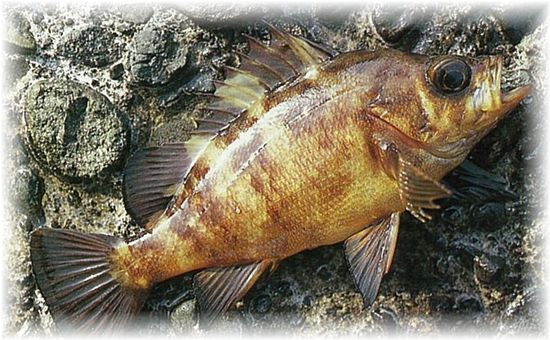fish: (0, 23, 546, 339)
